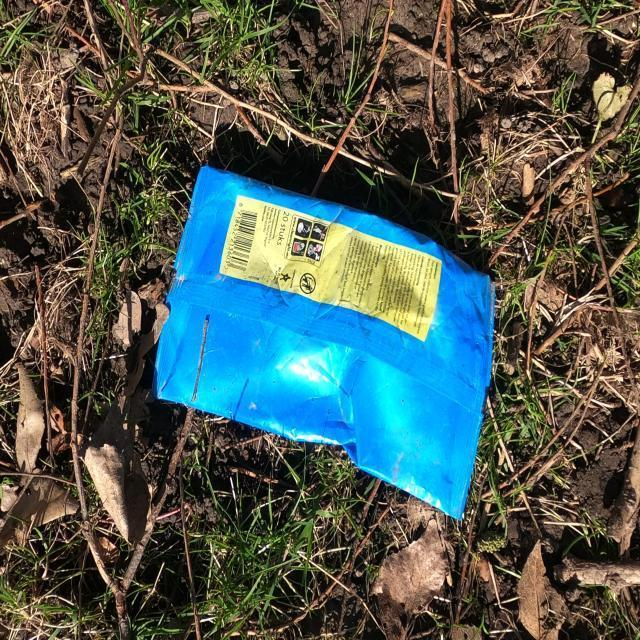Plastic: (144, 162, 496, 522)
